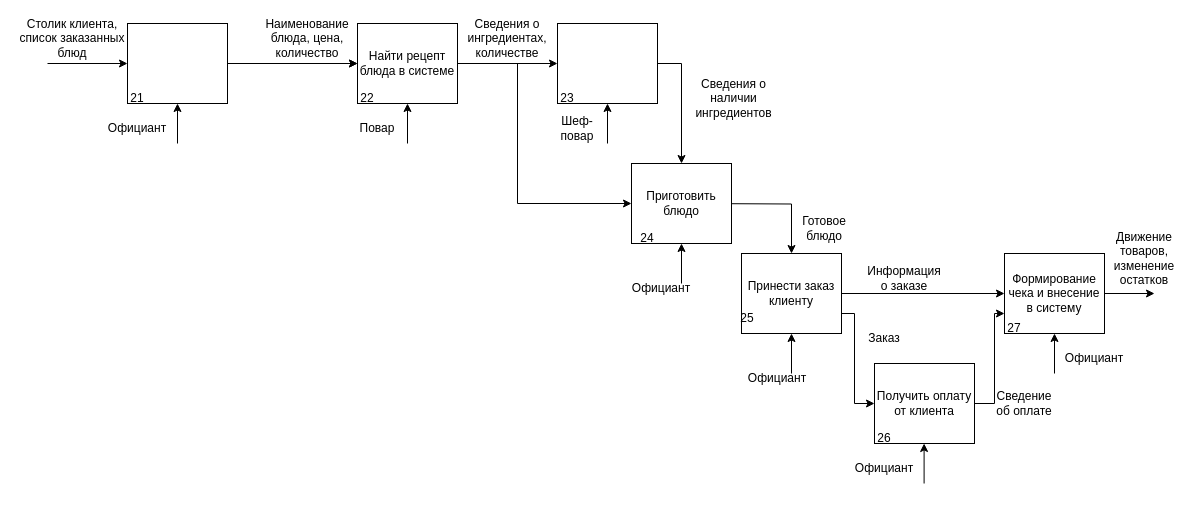
The diagram is 1191 pixels wide and 509 high, and some of its shapes have lost their labels. Here are the shapes that lost their labels. From the top down, the box of each, then its label:
(126, 22, 228, 104): Получение информации о заказе
(556, 22, 658, 104): Определить наличие ингредиентов
